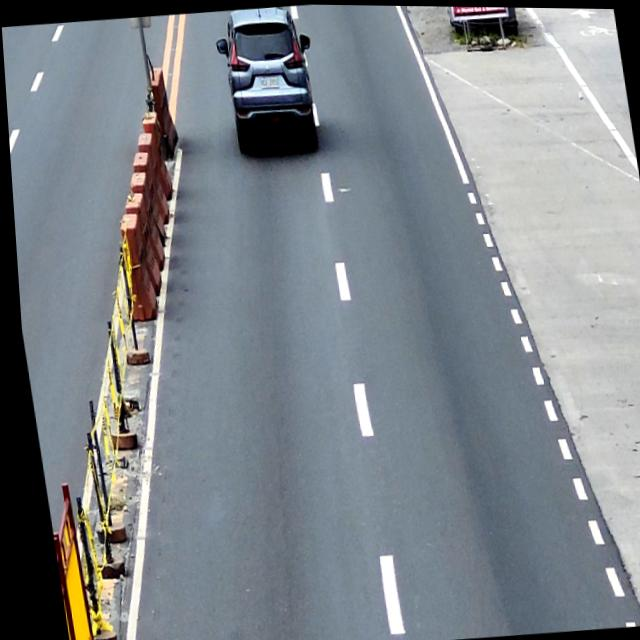Car: (210, 2, 326, 159)
License-Plate: (258, 74, 279, 89)
